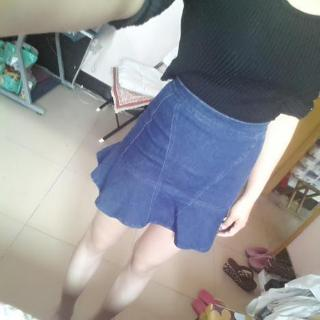short sleeve top: (107, 0, 319, 123)
skirt: (90, 76, 270, 252)
